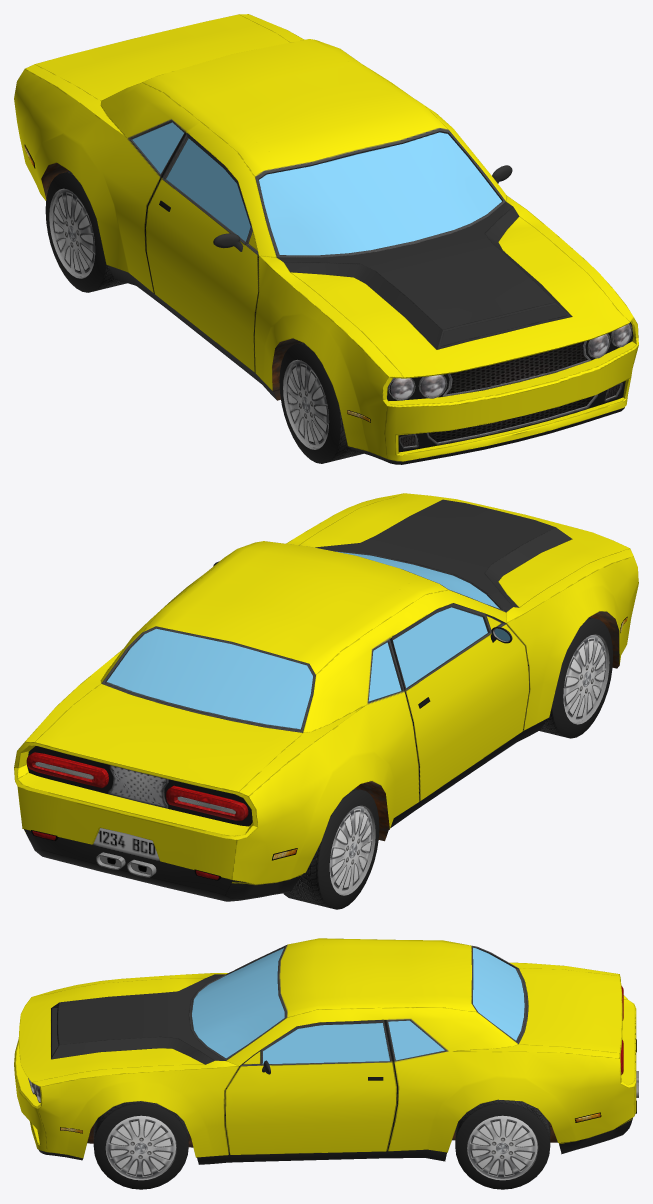
Rendered from simple_sport_car.glb.
3 views of the same model, one above another, from view 1: azimuth 30°, elevation 25°; view 2: azimuth 150°, elevation 25°; view 3: azimuth 270°, elevation 25° (orthographic). The views are drawn at different scales.
Parts seen in each view (by area): view 1: Body, FL, BL; view 2: Body, BL, FL; view 3: Body, BR, FR.
Part boxes in pixels (x1,y1,x2,y2): Body: (14, 14, 638, 464); FL: (279, 342, 363, 463); BL: (45, 171, 127, 292); Body: (14, 493, 638, 901); BL: (283, 788, 379, 909); FL: (539, 617, 613, 738); Body: (14, 938, 638, 1164); BR: (455, 1099, 550, 1189); FR: (93, 1101, 188, 1189).
Size of the model in its own units: 151 by 107 by 355.
2 materials, 2 textured.
